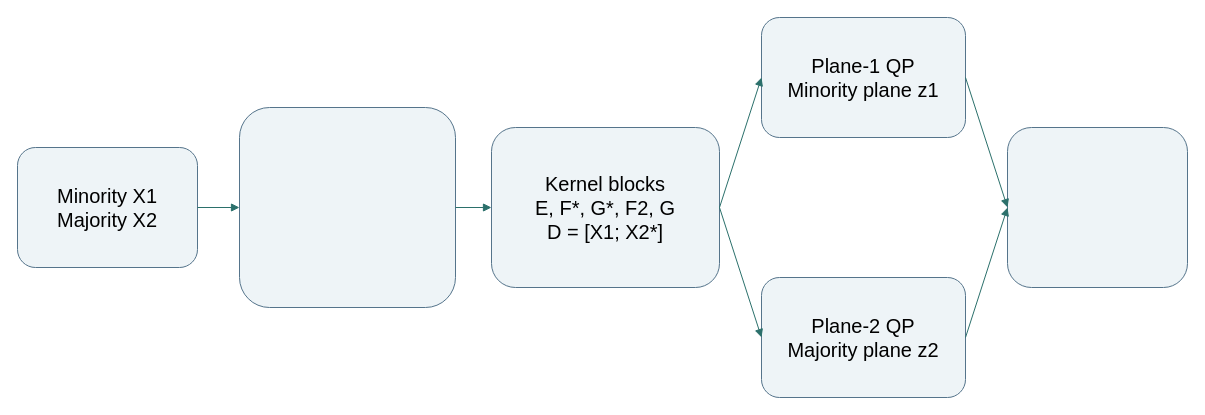
The diagram is 1205 pixels wide and 415 high, and some of its shapes have lost their labels. Here are the shapes that lost their labels. From the top down, the centre of each, then its label:
At point 347,207: "Draw X2*, U, U* Kernel IF scores s_min, s_maj*".
At point 1097,207: "Equation 32 Minimum plane distance".
